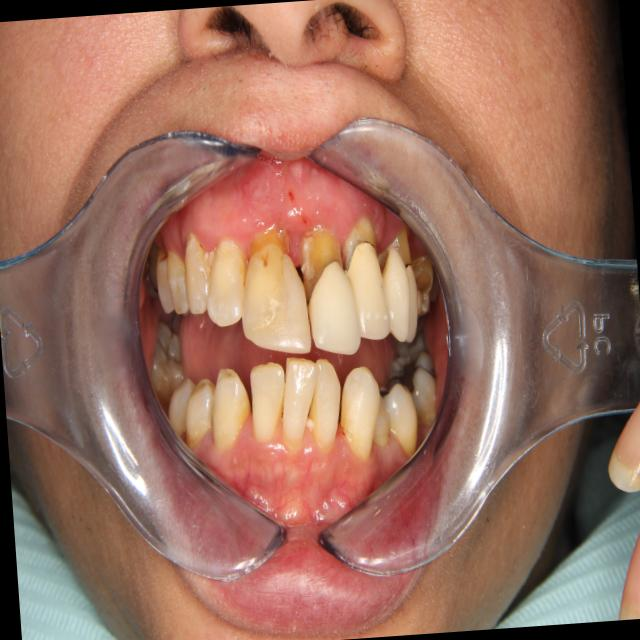tooth: (226, 215, 315, 364), (295, 219, 364, 361), (336, 208, 394, 345), (334, 359, 386, 466), (200, 225, 250, 332), (275, 351, 325, 453), (384, 345, 442, 431), (138, 318, 194, 400), (303, 351, 347, 455), (203, 356, 252, 448), (178, 228, 224, 319), (375, 234, 413, 344), (245, 355, 290, 445), (378, 374, 421, 461), (179, 370, 221, 451), (397, 226, 423, 348), (161, 240, 201, 318), (161, 371, 200, 443), (147, 246, 181, 319), (407, 244, 437, 323), (366, 382, 393, 451), (391, 321, 432, 359)
